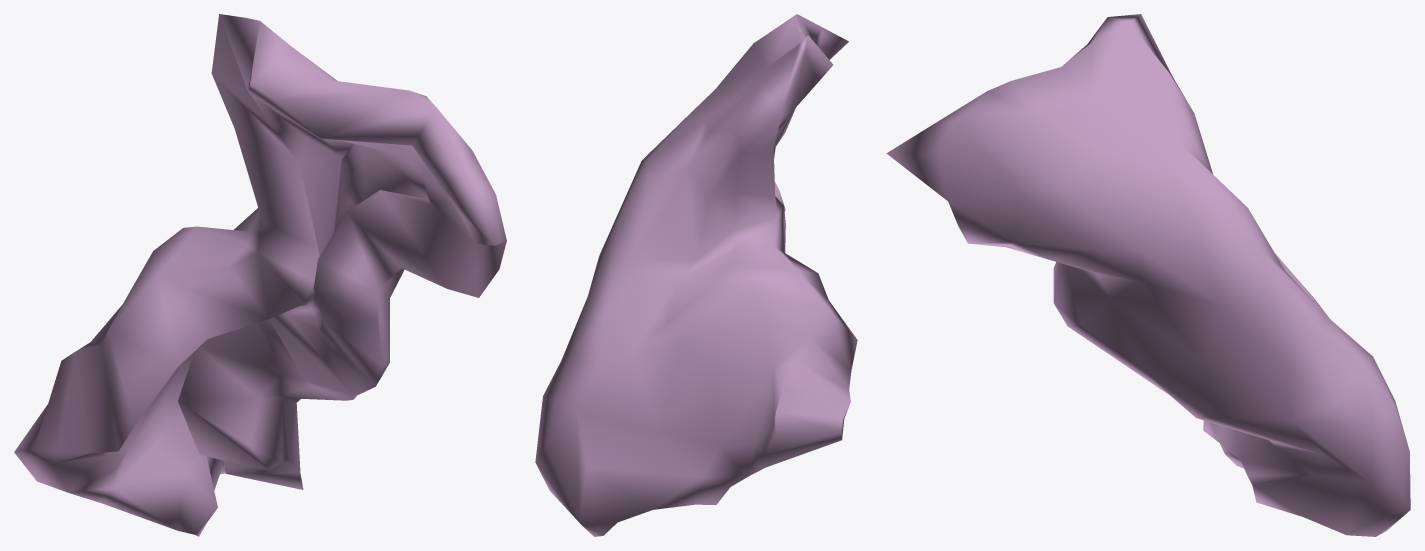
The picture shows the model from 3 angles, left to right: view 1: azimuth 30°, elevation 25°; view 2: azimuth 150°, elevation 25°; view 3: azimuth 270°, elevation 25°; orthographic projection. The views are drawn at different scales.
Parts seen in each view (by area): view 1: 左侧扣带沟缘支; view 2: 左侧扣带沟缘支; view 3: 左侧扣带沟缘支.
Boxes of the visible parts, <box> form: 左侧扣带沟缘支: <box>14,14,506,536</box>; 左侧扣带沟缘支: <box>535,14,857,536</box>; 左侧扣带沟缘支: <box>886,14,1410,536</box>.
Bounding box in the file's own units: 0.0286 × 0.0471 × 0.0478.
